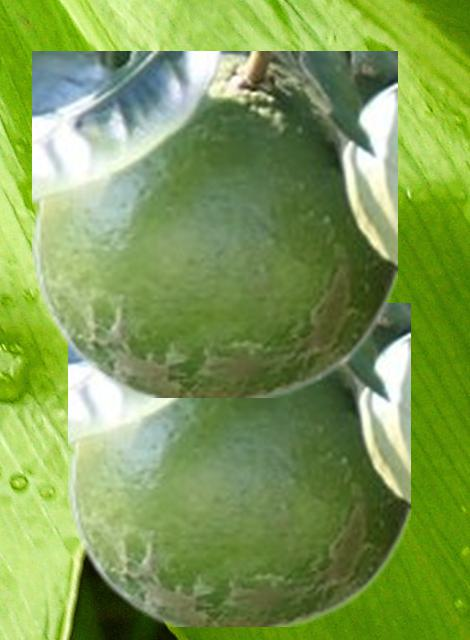dalandan: (32, 51, 396, 396), (68, 303, 409, 625)
